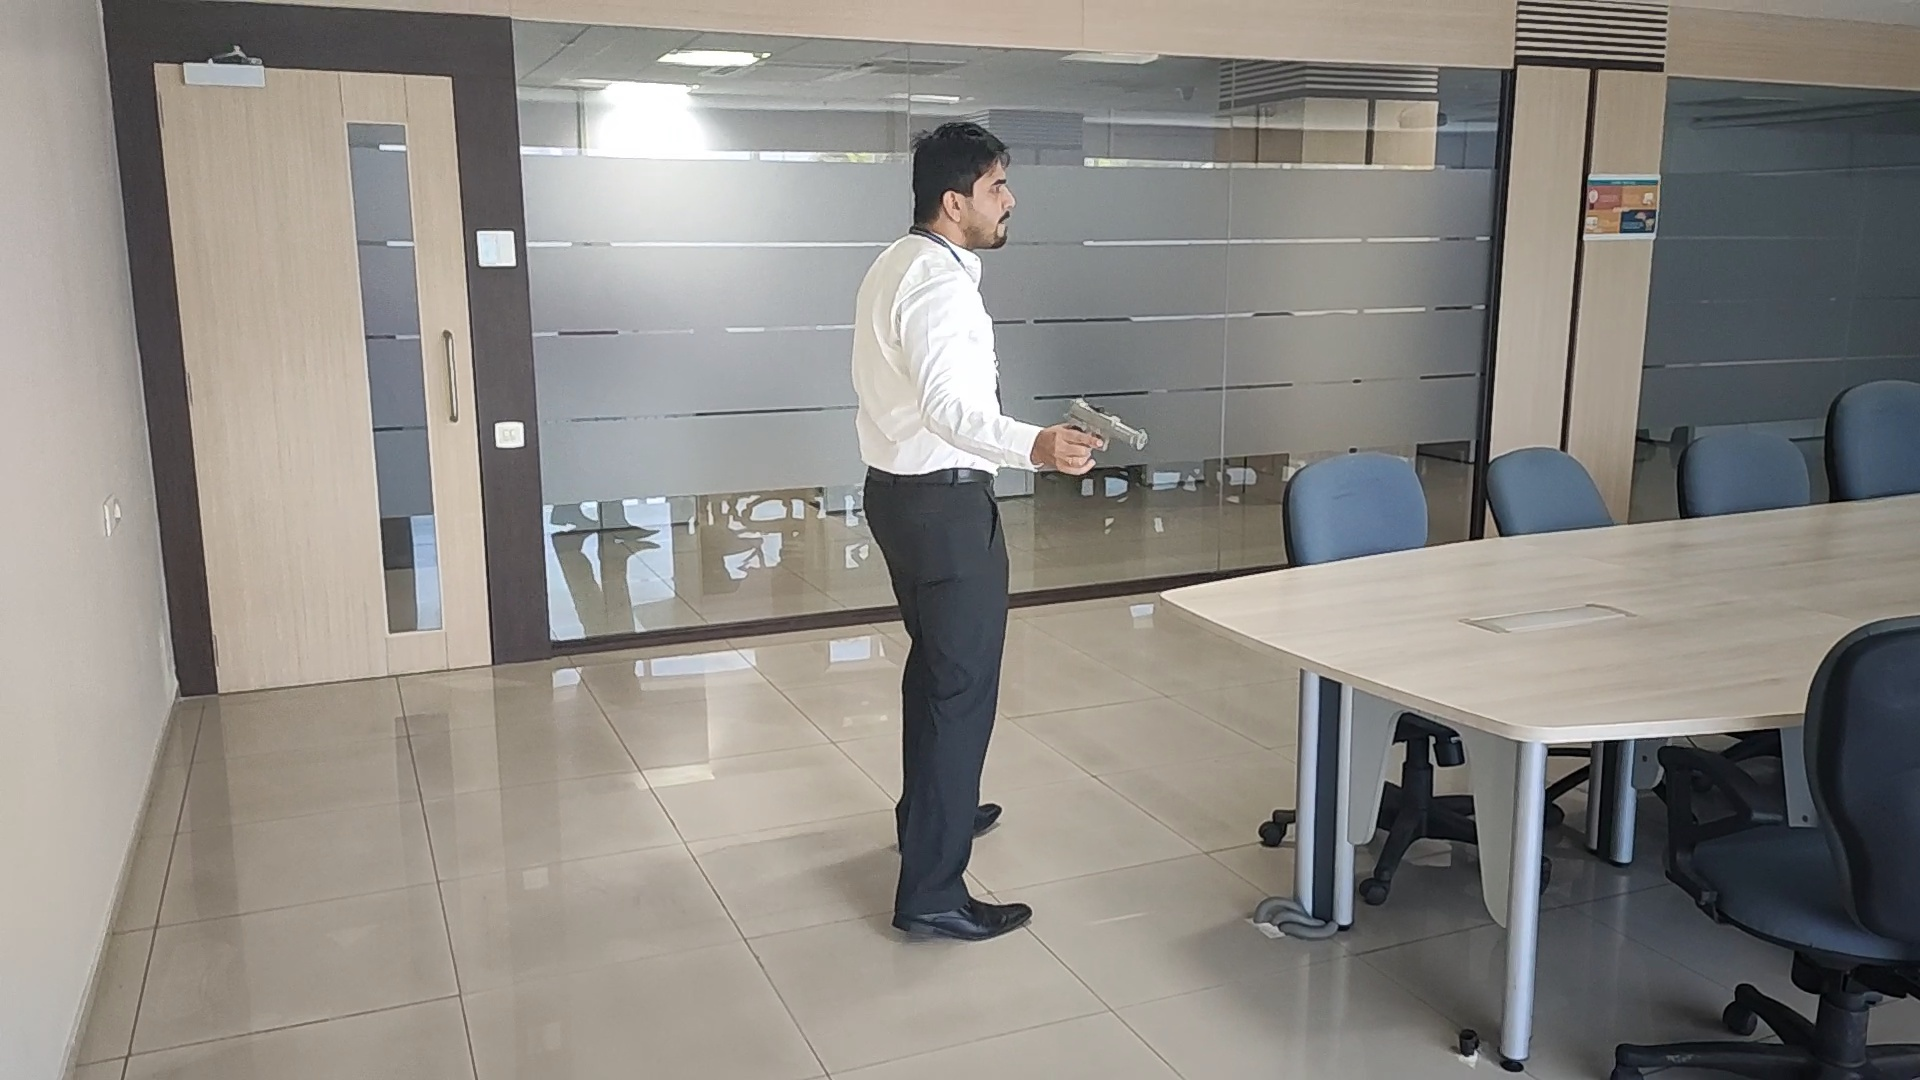gun: (1076, 398, 1149, 452)
